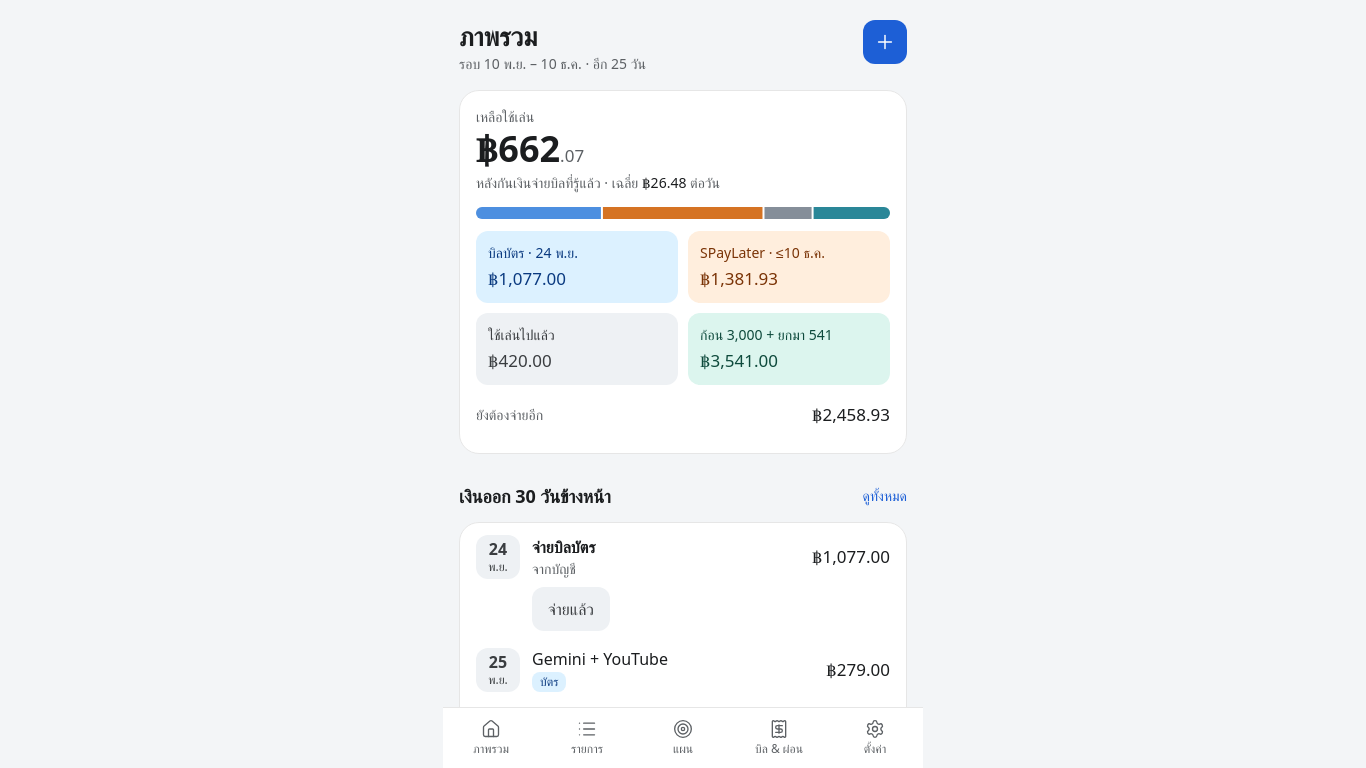
<PreviewHome> › add sheet › opens with a currency field, a switch and a save button
Click the button named "เพิ่มรายการ" at (885, 42), box [863, 20, 907, 64]
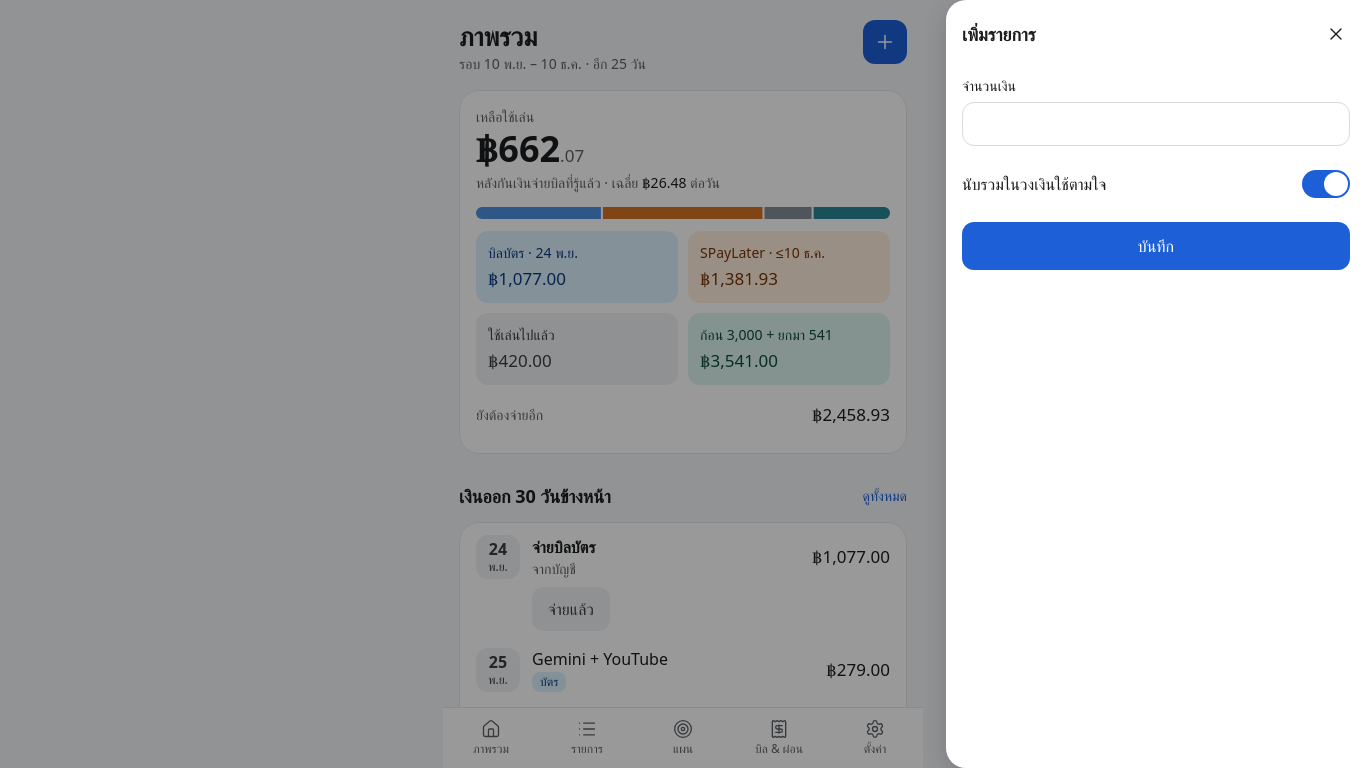
Now the field labelled "จำนวนเงิน" is shown, box [962, 102, 1350, 146]
Now the switch labelled "นับรวมในวงเงินใช้ตามใจ" is shown, box [962, 162, 1350, 206]
Now the button "บันทึก" is shown, box [962, 222, 1350, 270]
